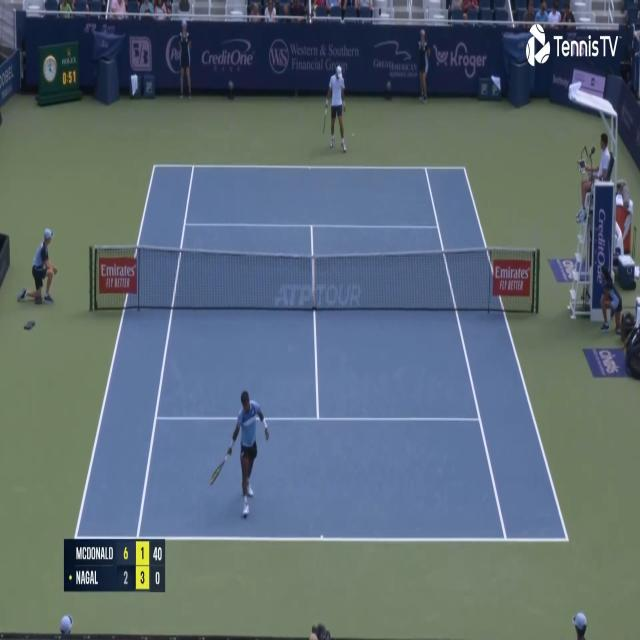tennis-player: (208, 385, 268, 520), (322, 60, 349, 153)
